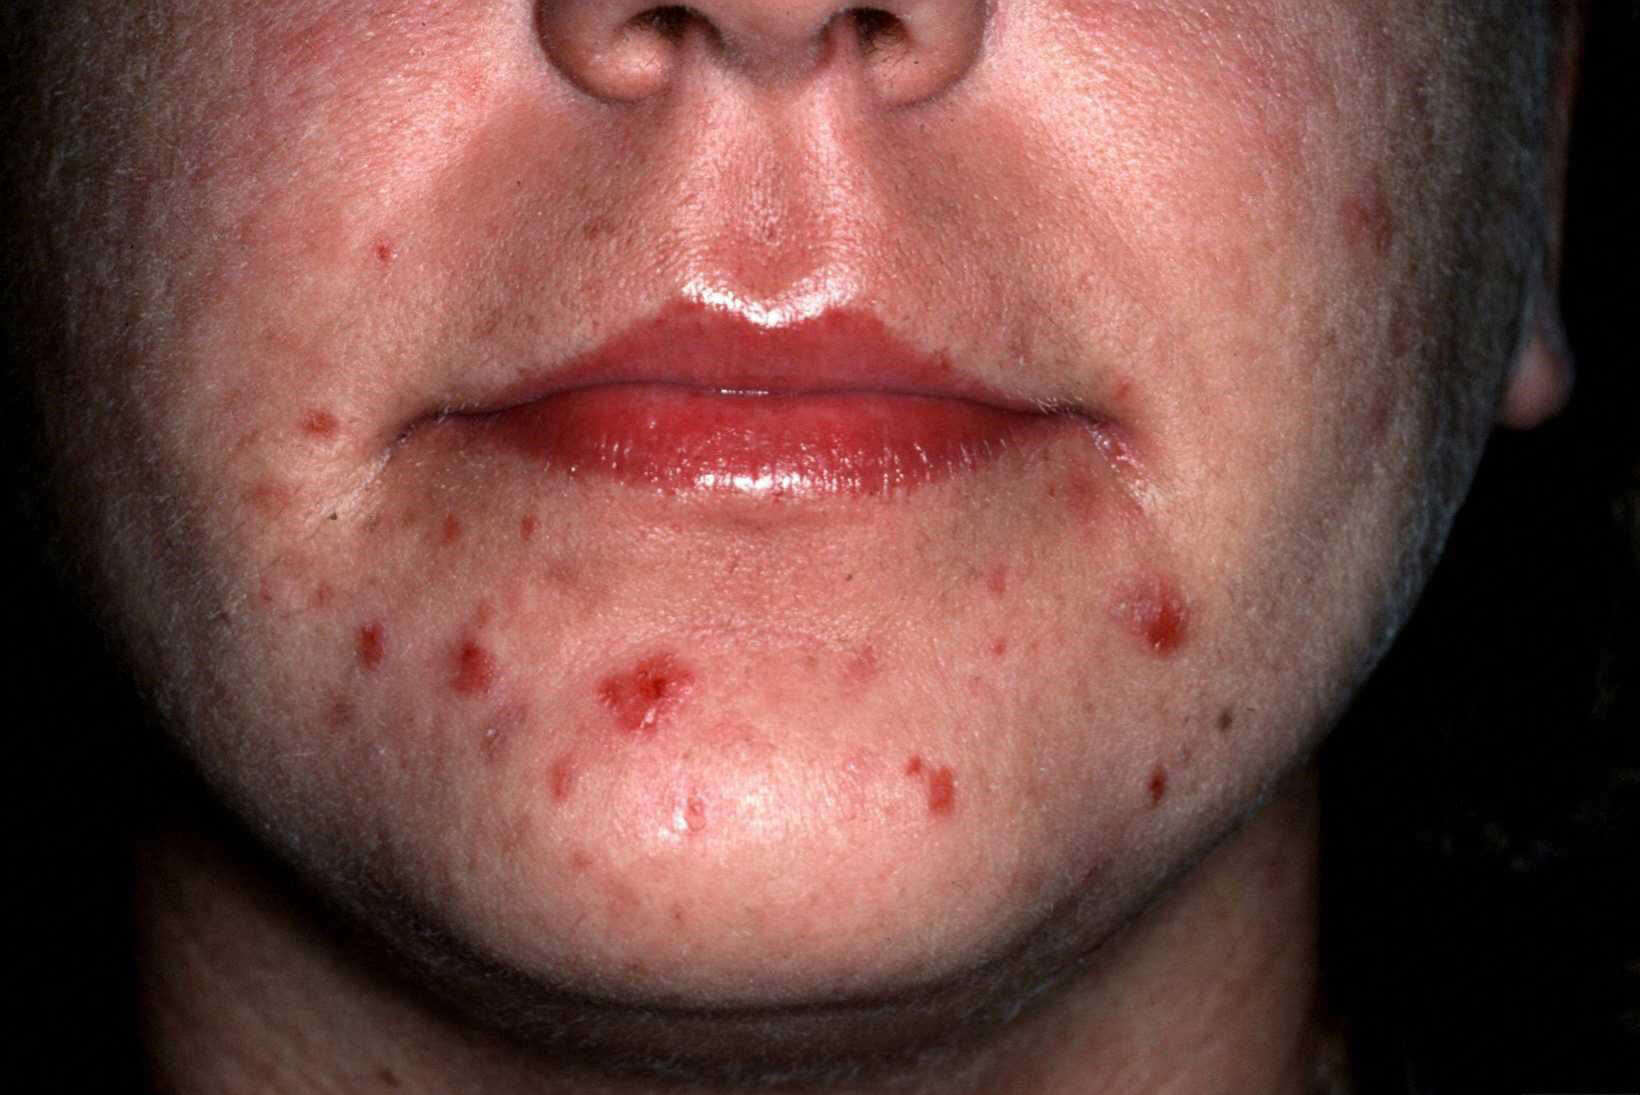jerawat: (219, 452, 1262, 880)
